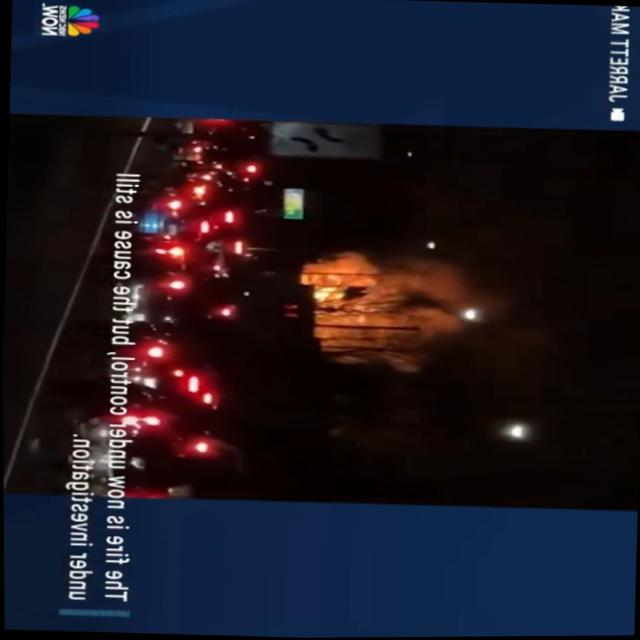Fire: (296, 240, 455, 360)
